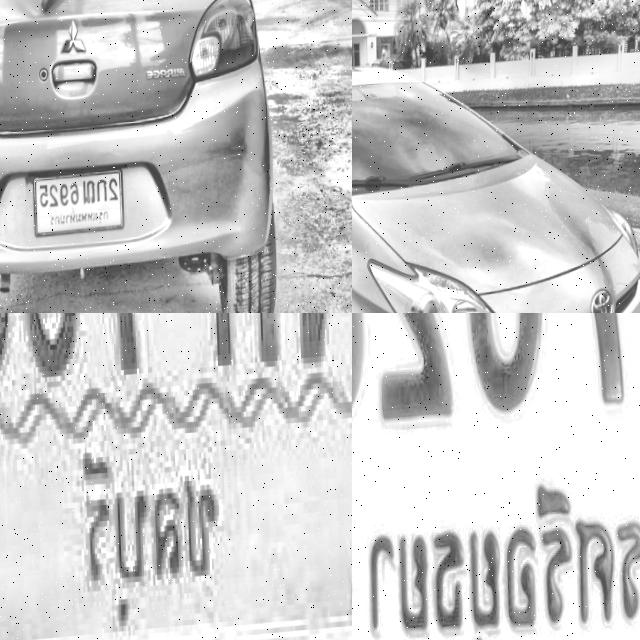license-plate: (0, 313, 352, 640), (352, 313, 640, 640), (31, 170, 125, 242)
